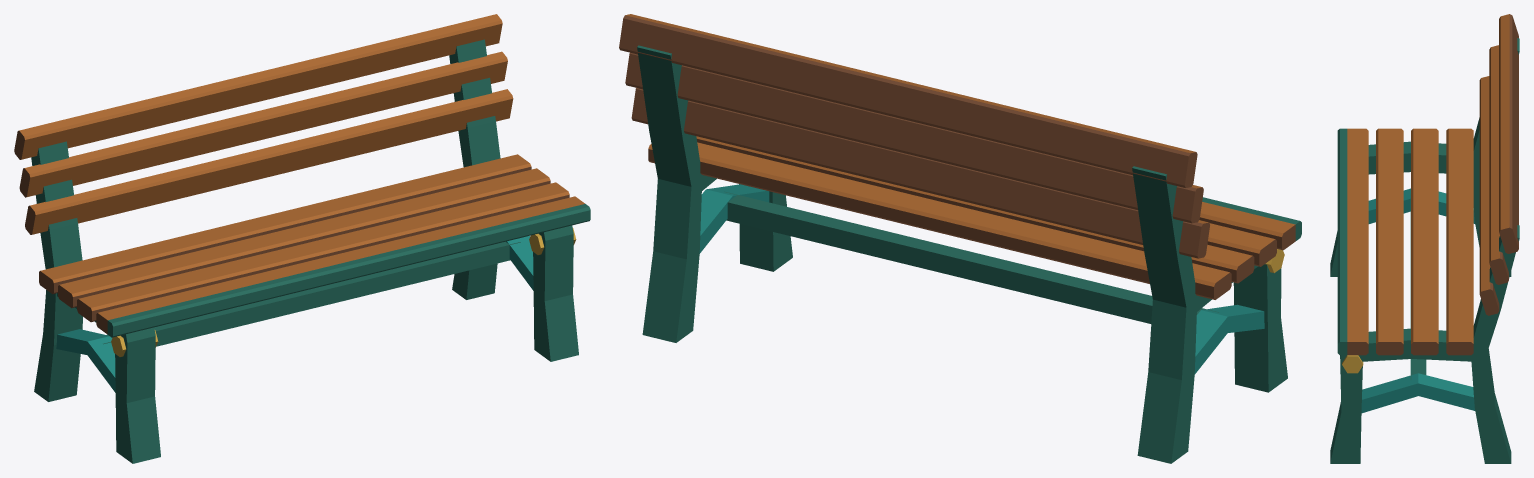
Rendered from bank.glb.
3 renders of one model, left to right at view 1: azimuth 30°, elevation 25°; view 2: azimuth 150°, elevation 25°; view 3: azimuth 270°, elevation 25°, orthographic. The views are drawn at different scales.
Visible parts, largest first — view 1: bank; view 2: bank; view 3: bank.
Boxes of the visible parts, x1,y1,x2,y2 form: bank: (14,14,590,463); bank: (619,14,1301,463); bank: (1330,14,1519,463).
Bounding box in the file's own units: 1.6 × 0.85 × 0.6.
